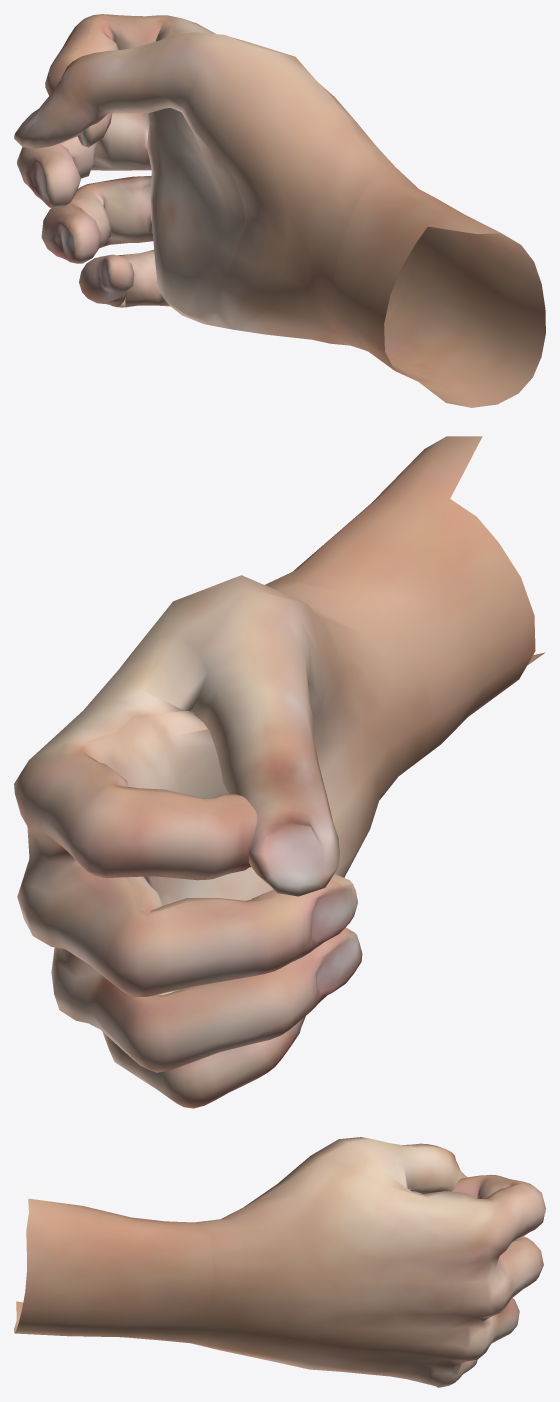
File: first_person_tool_hand.glb
3 renders of one model, top to bottom at view 1: azimuth 30°, elevation 25°; view 2: azimuth 150°, elevation 25°; view 3: azimuth 270°, elevation 25°, orthographic. The views are drawn at different scales.
Visible parts, largest first — view 1: ModeledRightHand; view 2: ModeledRightHand; view 3: ModeledRightHand.
Part boxes in pixels (x1,y1,x2,y2): ModeledRightHand: (14, 14, 545, 407); ModeledRightHand: (14, 436, 545, 1108); ModeledRightHand: (14, 1137, 545, 1387).
Size of the model in its own units: 0.074 by 0.0917 by 0.1844.
Materials: 1 (1 with a texture image).
